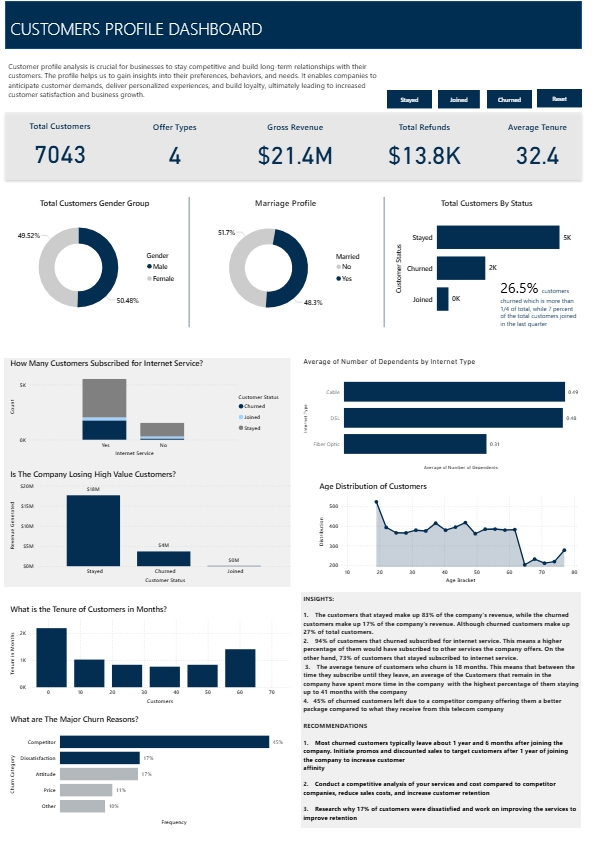

This screenshot's page, from the dashboard's own definition file:
{"tool":"powerbi","page":{"name":"Dashboard","canvas":[1300,1870],"ordinal":0},"visuals":[{"type":"shape","box":[666.7,1322.2,622.2,524.7],"z":0},{"type":"shape","box":[7.4,801.2,637,508.6],"z":1000},{"type":"shape","box":[0,0,1300,124.6],"z":2000},{"type":"textbox","box":[15,39,1027,71],"z":3000},{"type":"textbox","box":[11.3,138,832.4,107],"z":4000},{"type":"shape","box":[0,245.7,1300,167.9],"z":5000},{"type":"card","title":"Total Customers","fields":{"Values":["Count(telecom_customer_churn.Customer ID)"]},"box":[55.6,272.8,151.9,114.8],"z":6000},{"type":"card","title":"Offer Types","fields":{"Values":["Count(telecom_customer_churn.Internet Type)"]},"box":[311.1,275.3,150.6,112.3],"z":7000},{"type":"card","title":"Gross Revenue","fields":{"Values":["Sum(telecom_customer_churn.Total Revenue)"]},"box":[559.3,275.3,187.7,114.8],"z":8000},{"type":"donutChart","title":"Total Customers Gender Group","fields":{"Category":["telecom_customer_churn.Gender"],"Y":["CountNonNull(telecom_customer_churn.Customer ID)"]},"box":[15,445,385,290],"z":9000},{"type":"donutChart","title":"Marriage Profile","fields":{"Y":["CountNonNull(telecom_customer_churn.Customer ID)"],"Category":["telecom_customer_churn.Married"]},"box":[440,445,385,290],"z":10000},{"type":"shape","box":[412,445,14,290],"z":11000},{"type":"shape","box":[844,445,14,290],"z":12000},{"type":"actionButton","box":[857.7,207,100,40.8],"z":13000},{"type":"actionButton","box":[971.4,207,93,40.8],"z":14000},{"type":"actionButton","box":[1080.3,207,100,40.8],"z":15000},{"type":"card","title":"Total Refunds","fields":{"Values":["Sum(telecom_customer_churn.Total Refunds)"]},"box":[853.1,275.3,175.3,114.8],"z":16000},{"type":"clusteredBarChart","title":"Total Customers By Status","fields":{"Category":["telecom_customer_churn.Customer Status"],"Y":["CountNonNull(telecom_customer_churn.Customer ID)"]},"box":[872.1,444.3,416.4,288.5],"z":17000},{"type":"textbox","box":[1103.9,616.9,184.4,129.9],"z":18000},{"type":"clusteredBarChart","title":"What are The Major Churn Reasons?","fields":{"Y":["CountNonNull(telecom_customer_churn.Customer ID)"],"Category":["telecom_customer_churn.Churn Category"]},"box":[16,1592,628,254.7],"z":19000},{"type":"textbox","box":[666.2,1322.5,622.5,538],"z":20000},{"type":"columnChart","title":"Is The Company Losing High Value Customers?","fields":{"Category":["telecom_customer_churn.Customer Status"],"Y":["Divide(Sum(telecom_customer_churn.Total Revenue), ScopedEval(Sum(telecom_customer_churn.Total Revenue), []))"]},"box":[16,1046.9,635.8,261.7],"z":21000},{"type":"columnChart","title":"How Many Customers Subscribed for Internet Service?","fields":{"Category":["telecom_customer_churn.Internet Service"],"Y":["CountNonNull(telecom_customer_churn.Customer ID)"],"Series":["telecom_customer_churn.Customer Status"]},"box":[16,800,628.4,227.2],"z":22000},{"type":"barChart","fields":{"Category":["telecom_customer_churn.Customer Status","telecom_customer_churn.Internet Type"],"Y":["Avg(telecom_customer_churn.Number of Dependents)"]},"box":[667.2,800,620.9,255.2],"z":23000},{"type":"areaChart","title":"Age Distribution of Customers","fields":{"Category":["telecom_customer_churn.Age (bins)"],"Y":["CountNonNull(telecom_customer_churn.Age (bins))"]},"box":[701.5,1073.1,586.6,235.8],"z":24000},{"type":"columnChart","title":"What is the Tenure of Customers in Months?","fields":{"Category":["telecom_customer_churn.Tenure in Months (bins)"],"Y":["CountNonNull(telecom_customer_churn.Tenure in Months)"]},"box":[16,1346.7,630.7,230.7],"z":25000},{"type":"card","title":"Average Tenure","fields":{"Values":["Avg(telecom_customer_churn.Tenure in Months)"]},"box":[1103.7,275.3,175.3,114.8],"z":26000},{"type":"actionButton","box":[1191.5,204.2,100,40.8],"z":27000}]}

Visuals, with their boxes in screenshot pixels (x1, y1, x2, y2), scaled from the page's 1300x1870 canvas onto the 597x850 screenshot:
shape: box(306, 601, 592, 840)
shape: box(3, 364, 296, 595)
shape: box(0, 0, 596, 57)
textbox: box(7, 18, 479, 50)
textbox: box(5, 63, 387, 111)
shape: box(0, 112, 596, 188)
"Total Customers" card: box(26, 124, 95, 176)
"Offer Types" card: box(143, 125, 212, 176)
"Gross Revenue" card: box(257, 125, 343, 177)
"Total Customers Gender Group" donutChart: box(7, 202, 184, 334)
"Marriage Profile" donutChart: box(202, 202, 379, 334)
shape: box(189, 202, 196, 334)
shape: box(388, 202, 394, 334)
actionButton: box(394, 94, 440, 113)
actionButton: box(446, 94, 489, 113)
actionButton: box(496, 94, 542, 113)
"Total Refunds" card: box(392, 125, 472, 177)
"Total Customers By Status" clusteredBarChart: box(400, 202, 592, 333)
textbox: box(507, 280, 592, 339)
"What are The Major Churn Reasons?" clusteredBarChart: box(7, 724, 296, 839)
textbox: box(306, 601, 592, 846)
"Is The Company Losing High Value Customers?" columnChart: box(7, 476, 299, 595)
"How Many Customers Subscribed for Internet Service?" columnChart: box(7, 364, 296, 467)
barChart - telecom_customer_churn.Customer Status x telecom_customer_churn.Internet Type: box(306, 364, 592, 480)
"Age Distribution of Customers" areaChart: box(322, 488, 592, 595)
"What is the Tenure of Customers in Months?" columnChart: box(7, 612, 297, 717)
"Average Tenure" card: box(507, 125, 587, 177)
actionButton: box(547, 93, 593, 111)
